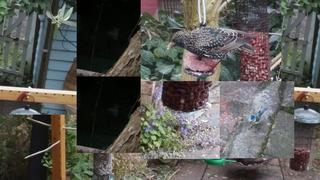blue tit: (248, 108, 268, 133)
starling: (167, 27, 255, 60)
